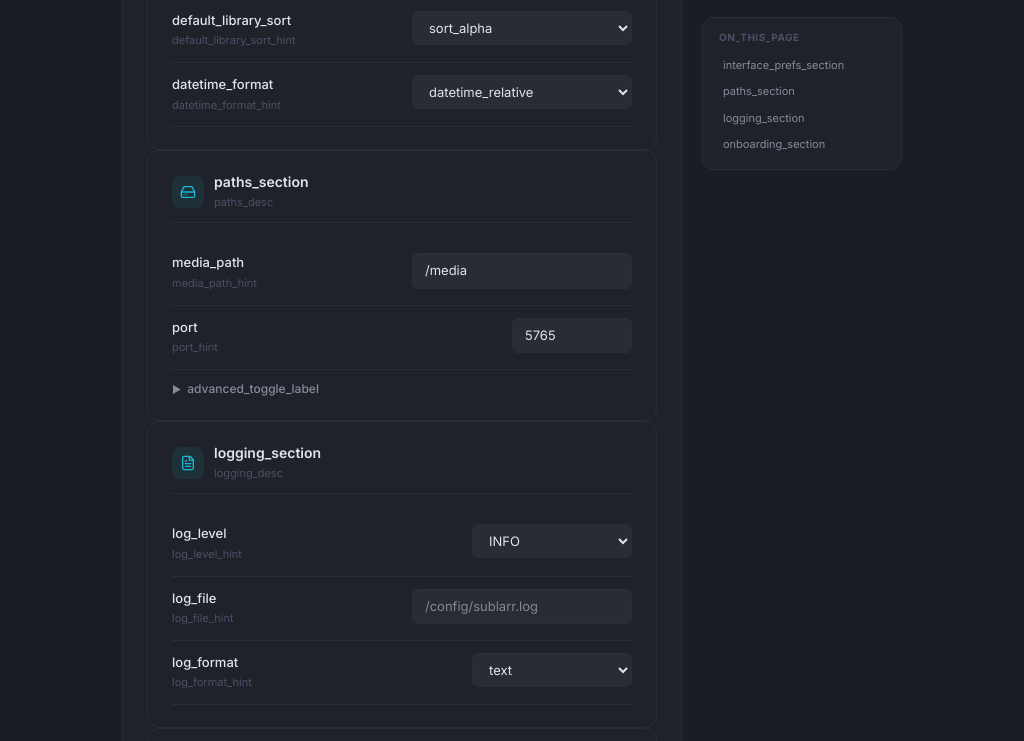
Test: GeneralSettings › shows advanced fields after clicking the Advanced toggle in Paths section
(page scrolled)
Click the button with test id "settings-section-advanced-toggle" at coordinates (245, 384), box [172, 370, 319, 398]
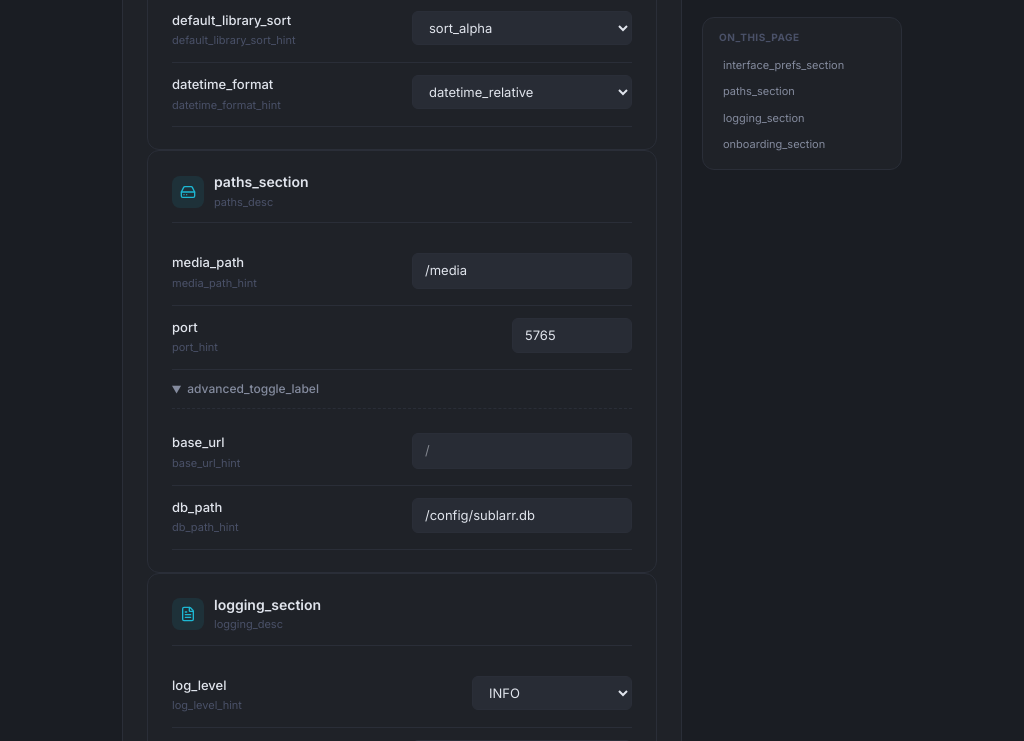
Result: the field with test id "input-db-path" is shown at [412, 498, 632, 533]
Result: the field with test id "input-base-url" is shown at [412, 433, 632, 469]
